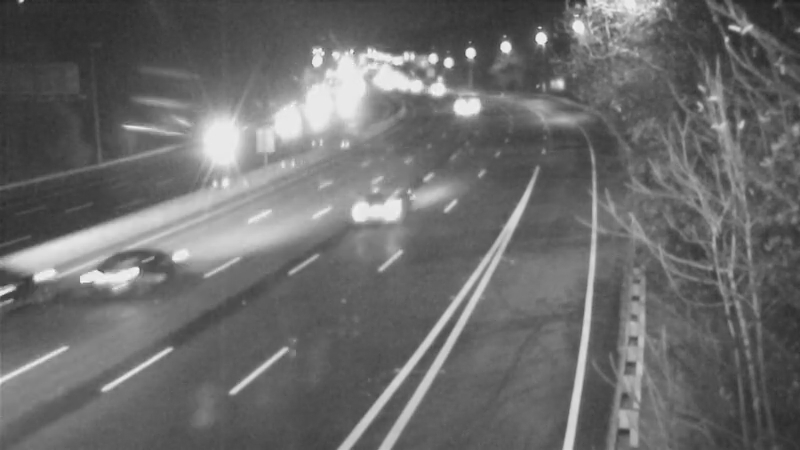vehicle: (350, 174, 430, 254), (82, 241, 162, 321), (179, 114, 259, 194), (1, 248, 71, 328), (408, 62, 458, 112), (436, 79, 486, 129), (260, 97, 310, 147)
